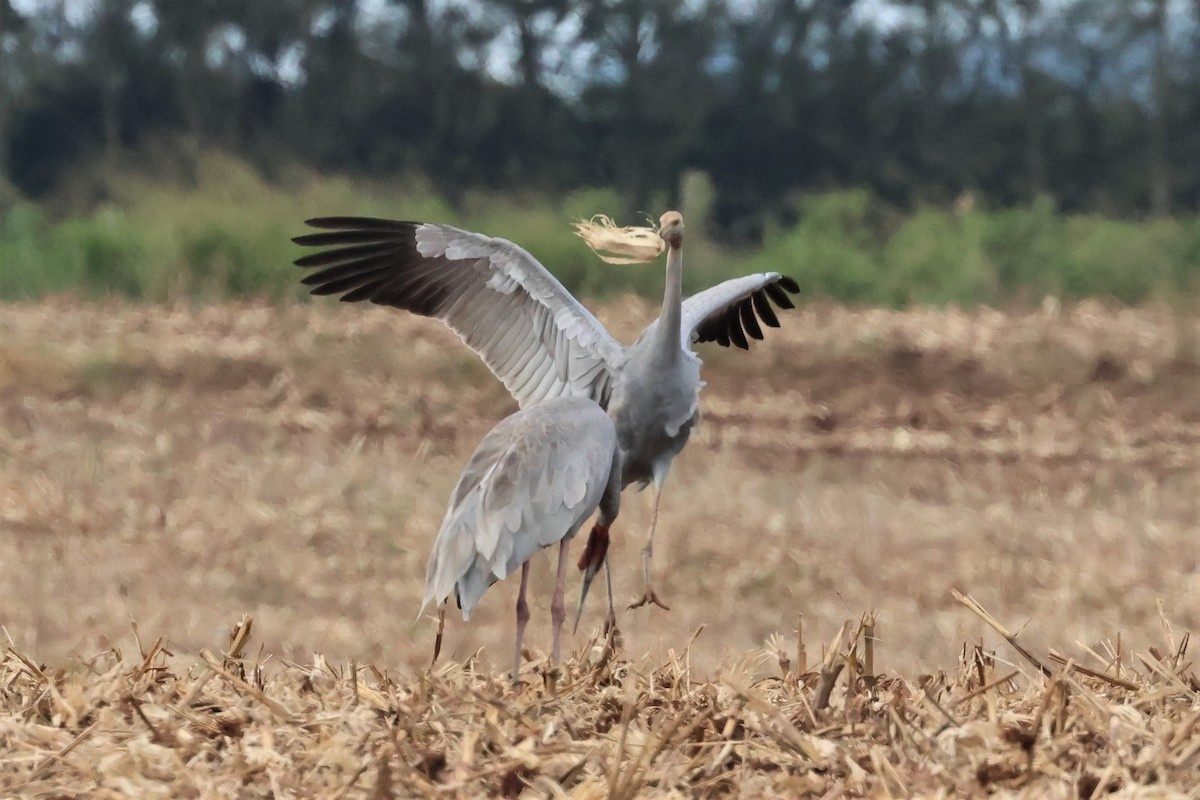crane: (349, 201, 822, 386), (445, 393, 625, 698)
